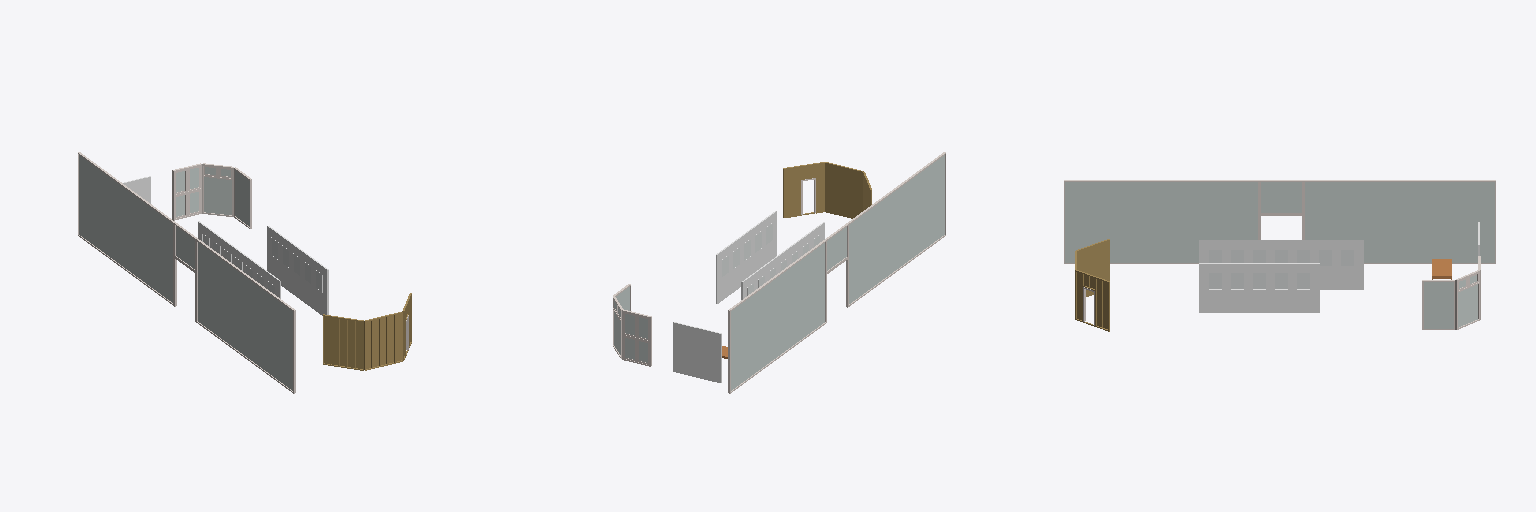
The model's file is shielders.obj.
3 views of the same model, side by side, from view 1: azimuth 30°, elevation 25°; view 2: azimuth 150°, elevation 25°; view 3: azimuth 270°, elevation 25° (orthographic).
Visible parts, largest first — view 1: System Panel, Walls, Rectangular Mullion, NLRS_28_SC_TLB_kolom vierkant hout_gen_ISR, WI_subvak1; view 2: System Panel, Walls, Rectangular Mullion, WI_subvak1; view 3: System Panel, Walls, Rectangular Mullion.
Boxes of the visible parts, x1=… form: System Panel: x1=79, y1=155, x2=292, y2=390; Walls: x1=123, y1=176, x2=409, y2=369; Rectangular Mullion: x1=78, y1=152, x2=408, y2=393; NLRS_28_SC_TLB_kolom vierkant hout_gen_ISR: x1=323, y1=295, x2=411, y2=369; WI_subvak1: x1=176, y1=167, x2=230, y2=216; System Panel: x1=614, y1=155, x2=944, y2=390; Walls: x1=673, y1=162, x2=870, y2=382; Rectangular Mullion: x1=613, y1=152, x2=945, y2=393; WI_subvak1: x1=614, y1=301, x2=647, y2=362; System Panel: x1=1065, y1=182, x2=1494, y2=328; Walls: x1=1076, y1=222, x2=1479, y2=328; Rectangular Mullion: x1=1064, y1=180, x2=1495, y2=329.
Size of the model in its own units: 7.41 by 4.19 by 19.75.